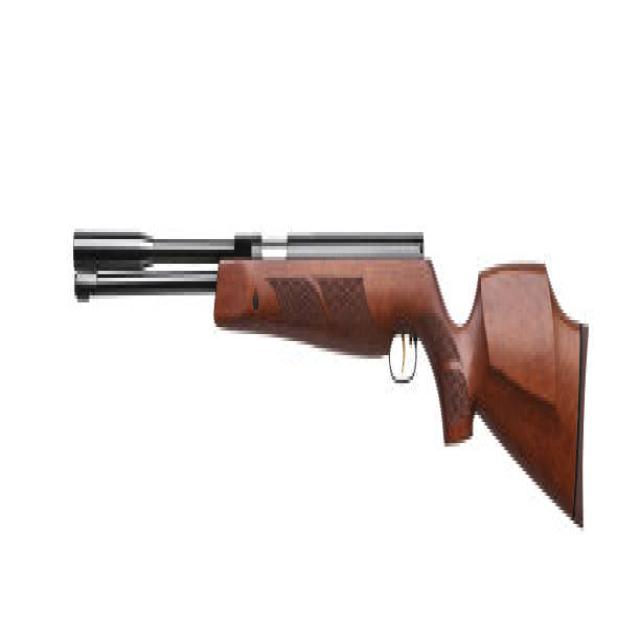rifle: (69, 209, 592, 548)
